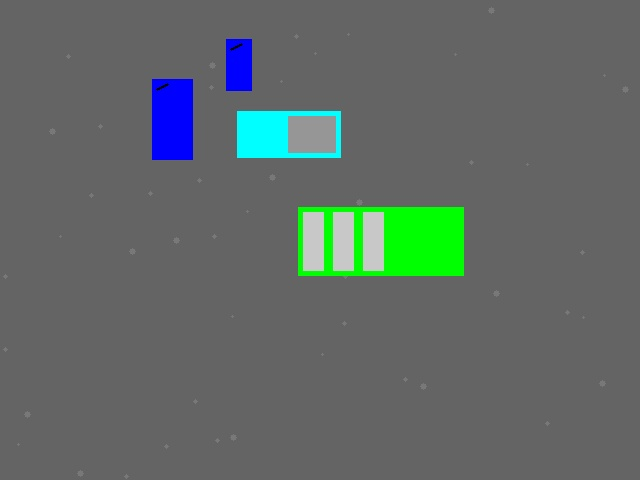bus: (298, 207, 463, 275)
motorcycle: (152, 79, 192, 159), (226, 39, 251, 90)
truck: (237, 111, 340, 157)
